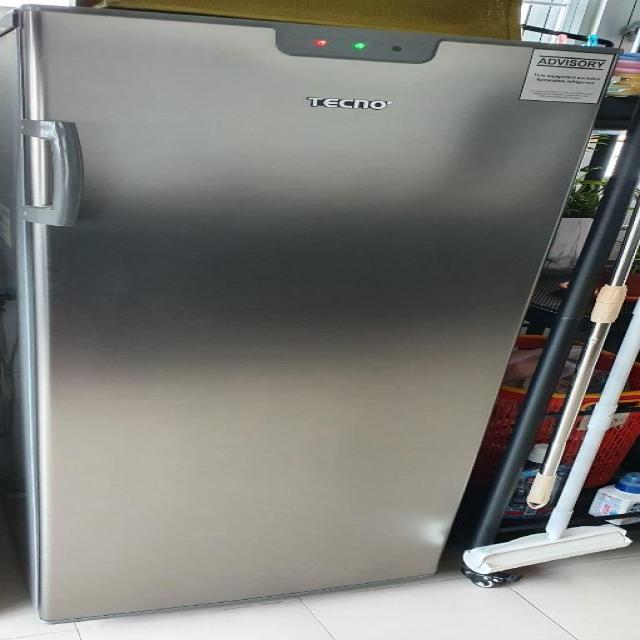refrigerator: (12, 4, 616, 622)
